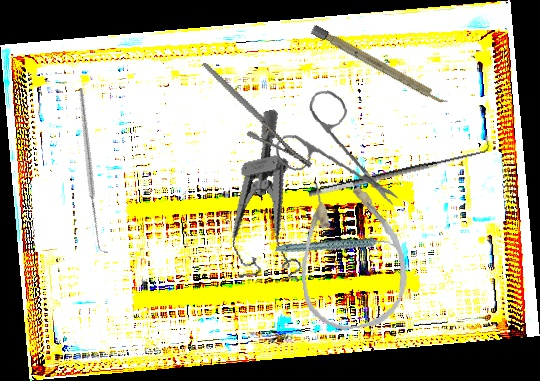Cannula: (289, 173, 413, 335)
Handpiece: (275, 221, 394, 273)
Hook Surgical: (22, 87, 165, 254), (304, 134, 495, 199)
Iris Scissors: (270, 85, 400, 215)
Needle Holder: (201, 39, 315, 191)
Scalpel Handle: (310, 24, 450, 108)
Speculum: (202, 108, 317, 295)
